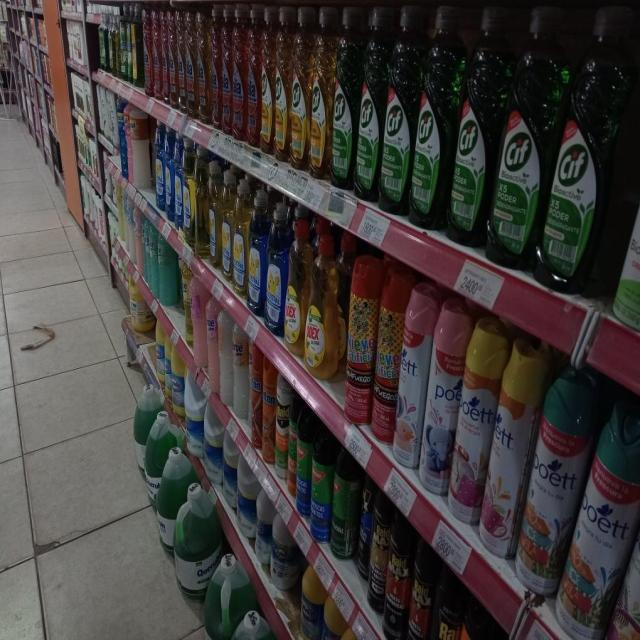ala_conc_rojo: (247, 5, 261, 149), (232, 4, 246, 142), (220, 5, 232, 136), (196, 6, 208, 124), (209, 5, 220, 129), (185, 5, 196, 118), (176, 2, 185, 112), (168, 2, 176, 108), (143, 3, 152, 96), (152, 2, 160, 102), (162, 2, 168, 104)
cif_conc_bot_amarilla: (310, 5, 332, 180), (291, 5, 309, 171), (275, 5, 290, 162), (261, 5, 274, 155)
cif_conc_botella_verde: (544, 3, 604, 294), (491, 0, 542, 269), (450, 3, 490, 248), (411, 3, 449, 231), (380, 3, 411, 215), (356, 5, 380, 202), (332, 5, 356, 190)
esencial: (129, 105, 148, 189)
heroe: (233, 323, 249, 423), (218, 304, 232, 406), (191, 272, 205, 368), (250, 340, 262, 452), (206, 292, 219, 394), (158, 233, 175, 306), (147, 216, 157, 296)
magistral_con_amarillo: (233, 175, 248, 298), (183, 137, 197, 250), (208, 159, 221, 269), (221, 168, 233, 284)
magistral_con_azul: (266, 201, 285, 335), (248, 188, 266, 316), (154, 122, 165, 213), (174, 131, 183, 230)
odex: (305, 225, 337, 376), (285, 211, 304, 355)
